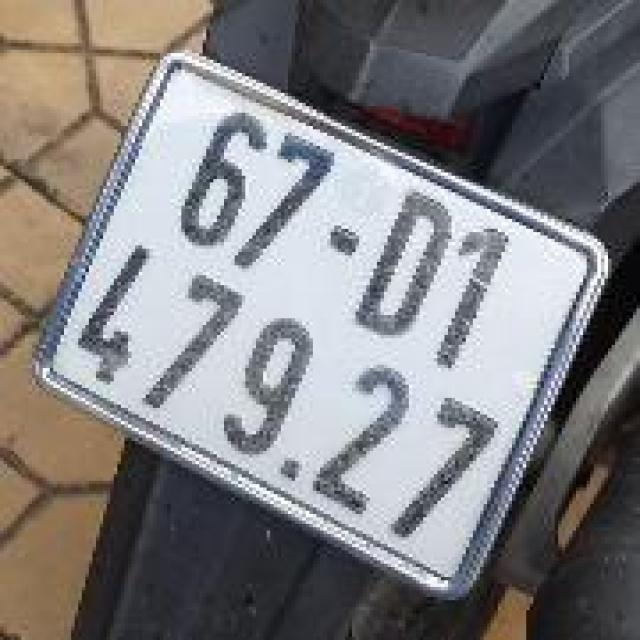1: (410, 209, 516, 386)
2: (290, 342, 430, 524)
4: (47, 230, 170, 413)
6: (137, 88, 277, 277)
7: (361, 381, 526, 564), (118, 254, 253, 432), (224, 120, 349, 288)
9: (190, 303, 330, 499)
D: (340, 184, 464, 353)
